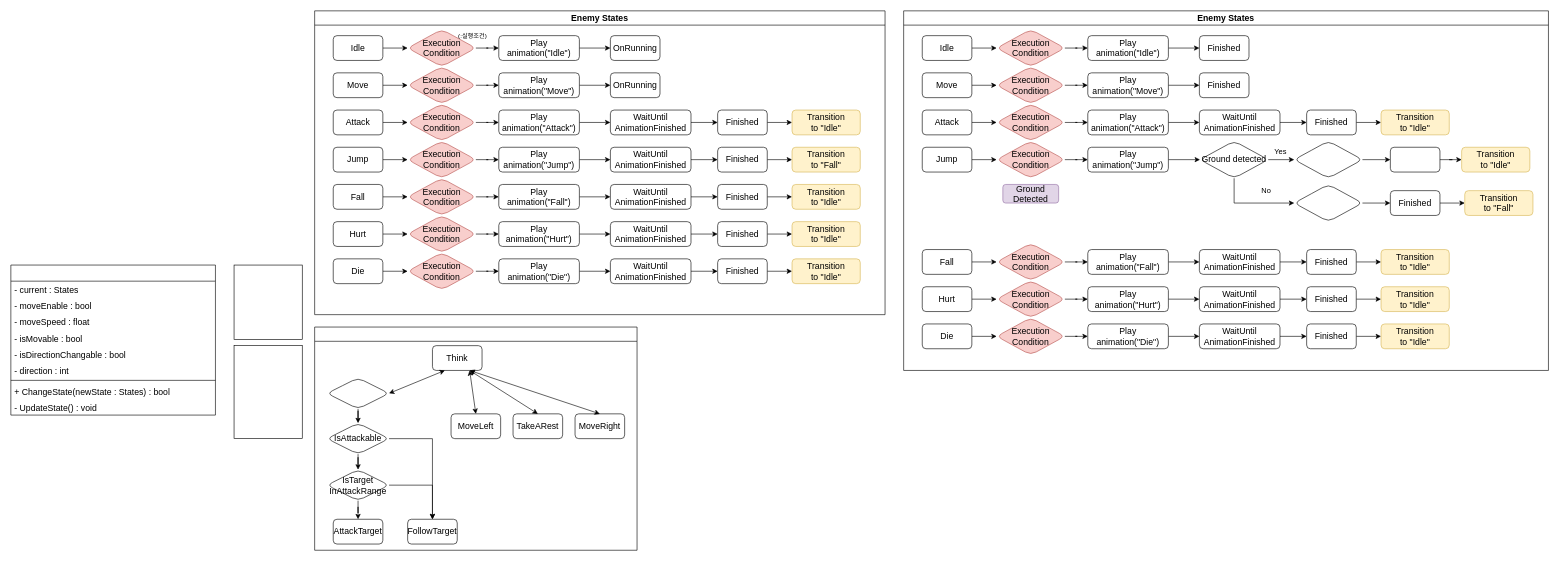
This 1559x561 diagram has some shape labels left out. Each missing label, with the box of its shape:
Animation Finished: (1294, 140, 1362, 178)
Enemy AI Behavior: (314, 326, 637, 550)
EnemyController: (10, 264, 215, 415)
Error: (1390, 147, 1440, 172)
IsTarget Detected: (326, 377, 389, 409)
Y velocity < 0 ?: (1294, 184, 1362, 222)
«AIStates» Think TakeARest MoveLeft MoveRight FollowTarget AttackTarget: (233, 345, 302, 439)
«States» Idle Move Attack Hurt Die: (233, 264, 302, 339)
